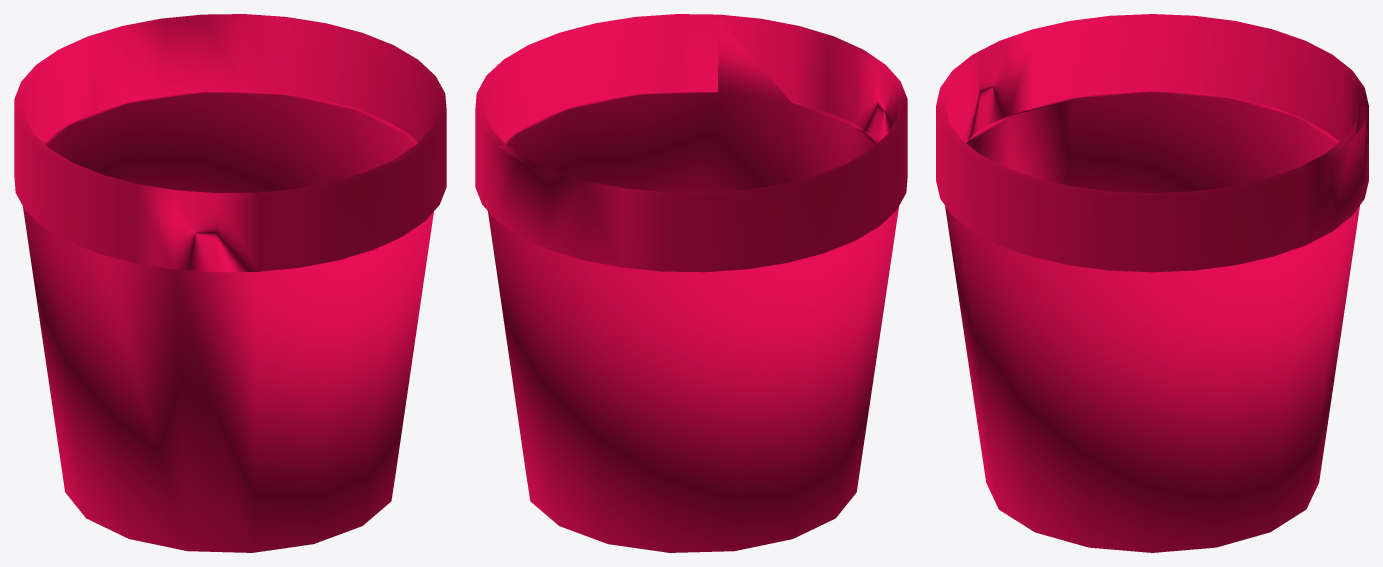
The model's file is plasticcup.dae.
The picture shows the model from 3 angles, left to right: view 1: azimuth 30°, elevation 25°; view 2: azimuth 150°, elevation 25°; view 3: azimuth 270°, elevation 25°; orthographic projection.
Visible parts, largest first — view 1: Cup; view 2: Cup; view 3: Cup.
Part boxes in pixels (left/top/right/bottom): Cup: left=14, top=14, right=446, bottom=552; Cup: left=475, top=14, right=907, bottom=552; Cup: left=936, top=14, right=1368, bottom=552.
Size of the model in its own units: 2.6 by 2.6 by 2.5.
